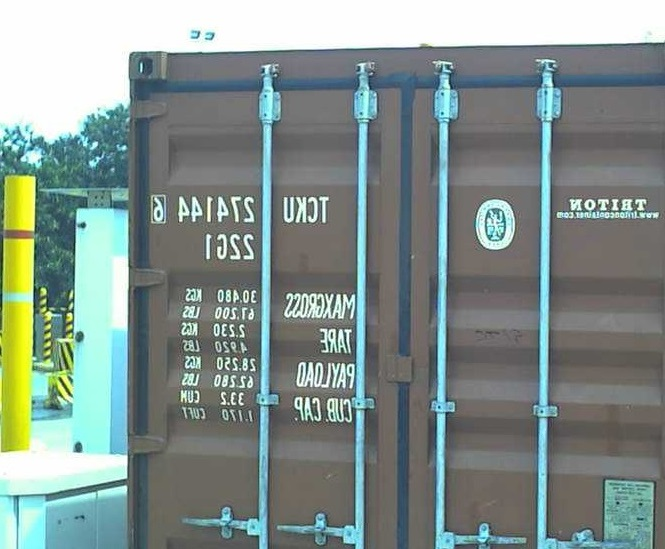container_door: (122, 48, 661, 545)
